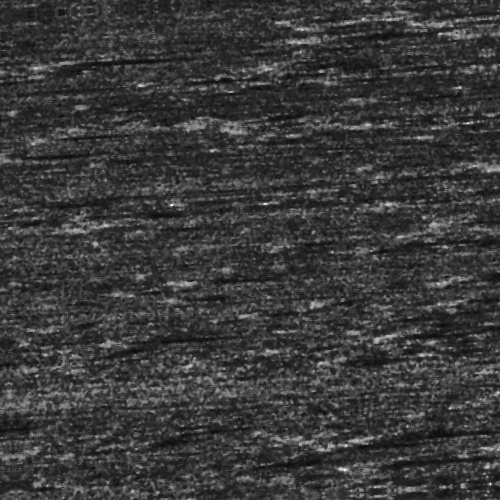object: (406, 28, 500, 41), (346, 435, 409, 450), (21, 47, 126, 56), (276, 37, 349, 46), (428, 38, 500, 47), (91, 327, 132, 338), (455, 455, 500, 464), (335, 466, 388, 473), (433, 286, 474, 295), (416, 0, 479, 1)
shadow: (378, 435, 500, 450), (111, 327, 221, 338), (362, 466, 500, 473), (313, 37, 416, 46), (74, 47, 164, 56), (458, 28, 500, 41), (453, 286, 500, 295), (0, 112, 12, 117), (447, 0, 500, 1)
